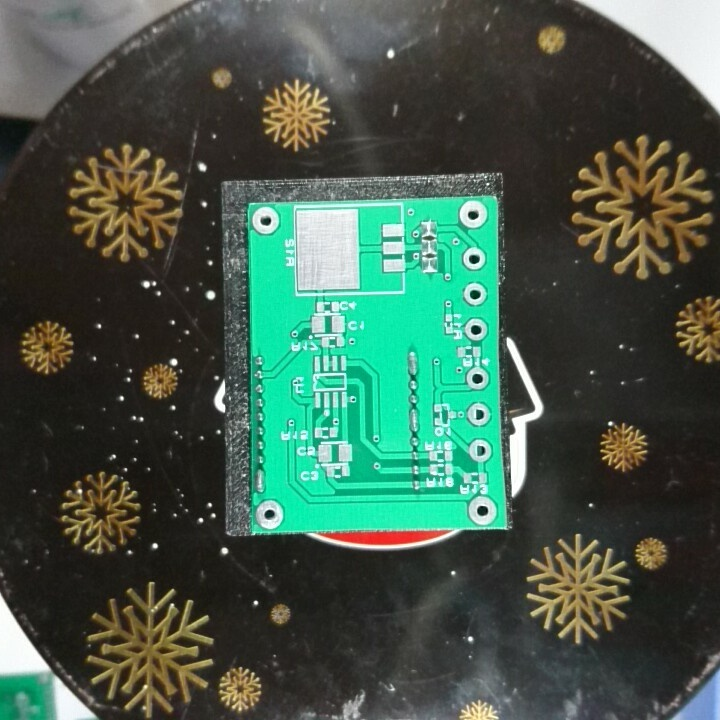F: (250, 204, 282, 238), (253, 498, 287, 530), (465, 493, 499, 525), (457, 199, 491, 229), (465, 401, 494, 429), (460, 280, 489, 308), (461, 316, 491, 343), (459, 245, 489, 272), (464, 365, 493, 392), (466, 438, 494, 464)
P: (405, 348, 422, 378), (406, 406, 422, 436), (253, 468, 268, 493)
